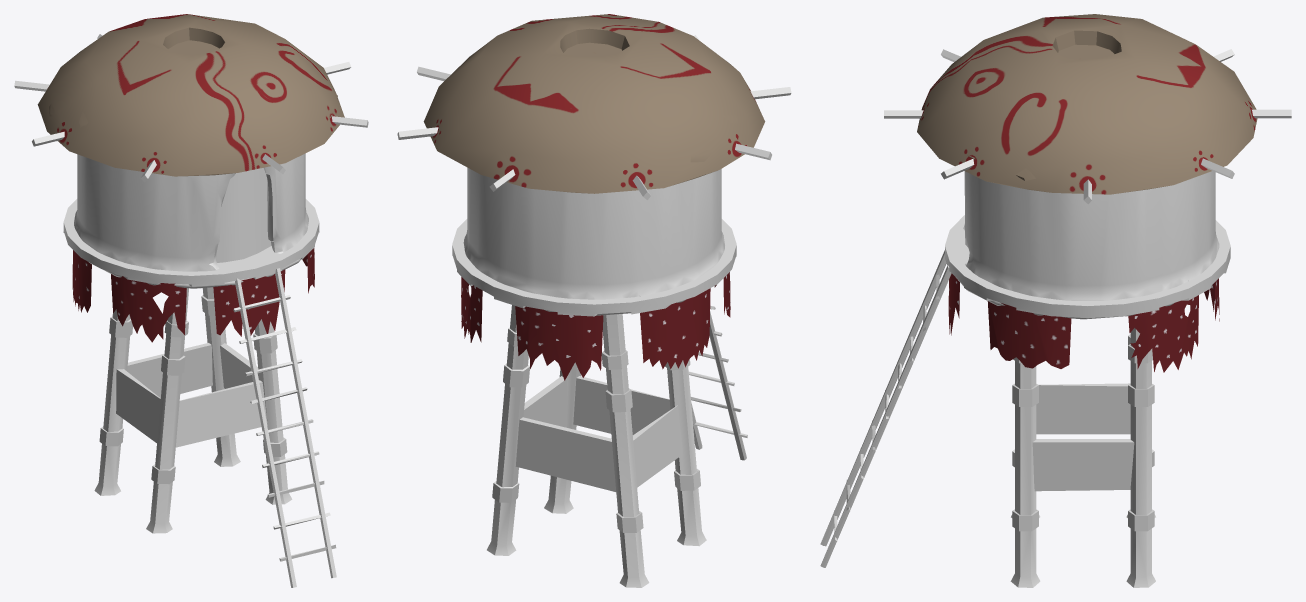
The model's file is House01-6.fbx.
The picture shows the model from 3 angles, left to right: view 1: azimuth 30°, elevation 25°; view 2: azimuth 150°, elevation 25°; view 3: azimuth 270°, elevation 25°; orthographic projection. The views are drawn at different scales.
Parts seen in each view (by area): view 1: House 1-6.LOD0, Echelle; view 2: House 1-6.LOD0, Echelle; view 3: House 1-6.LOD0, Echelle.
Part boxes in pixels (box(x1,y1,x2,y2)): House 1-6.LOD0: box(14, 14, 368, 533); Echelle: box(233, 268, 336, 587); House 1-6.LOD0: box(397, 14, 791, 587); Echelle: box(688, 305, 747, 460); House 1-6.LOD0: box(884, 14, 1291, 587); Echelle: box(820, 250, 951, 567).
Size of what is drawn, in the model's own units: 821 by 1133 by 949.
